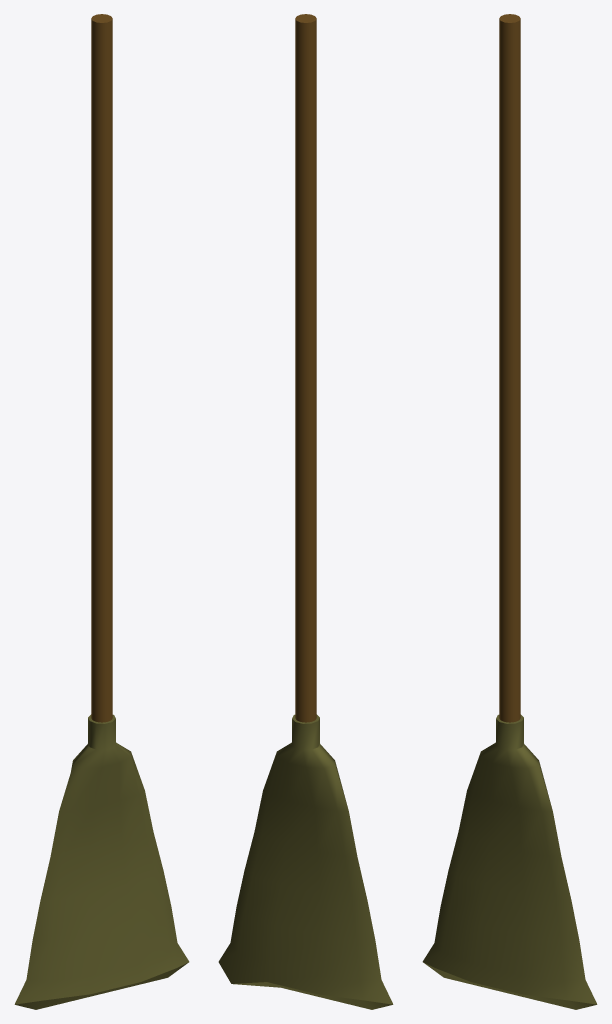
The model's file is SM_Prop_BroomCorn.fbx.
The picture shows the model from 3 angles, left to right: view 1: azimuth 30°, elevation 25°; view 2: azimuth 150°, elevation 25°; view 3: azimuth 330°, elevation 25°; orthographic projection.
Visible parts, largest first — view 1: SM_Prop_BroomCorn; view 2: SM_Prop_BroomCorn; view 3: SM_Prop_BroomCorn.
Part boxes in pixels (bbox=[...]): SM_Prop_BroomCorn: bbox=[14, 14, 189, 1009]; SM_Prop_BroomCorn: bbox=[218, 14, 393, 1009]; SM_Prop_BroomCorn: bbox=[422, 14, 597, 1009].
Size of the model in its own units: 28.19 by 150 by 7.73.
